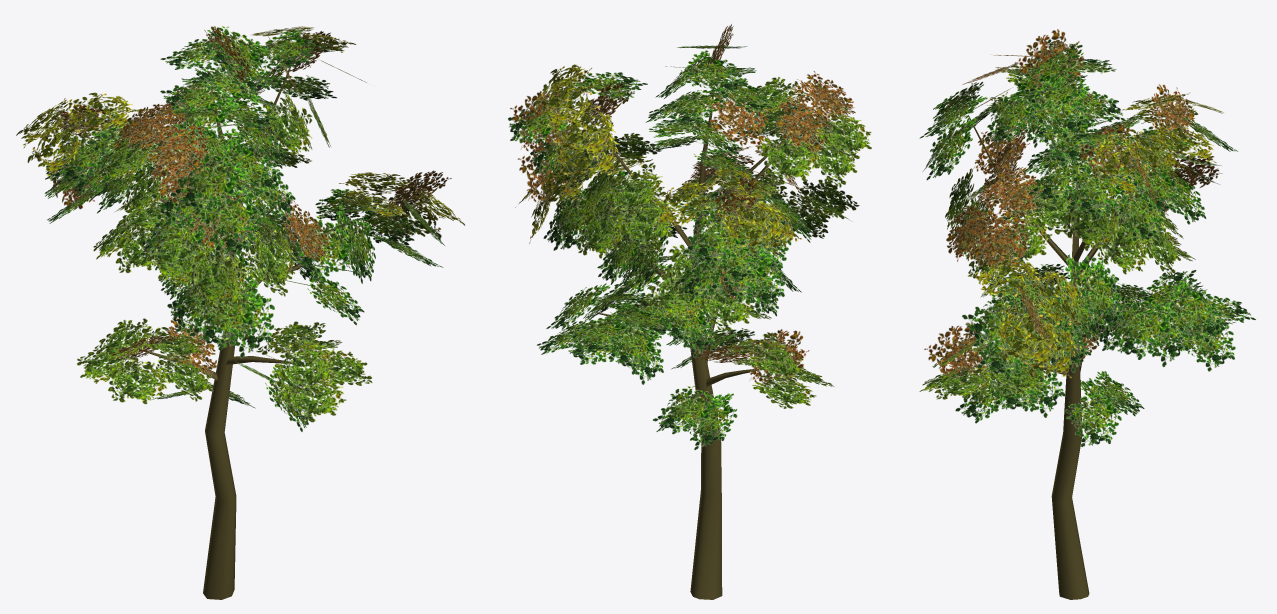
Rendered from tree1b.gltf.
The picture shows the model from 3 angles, left to right: view 1: azimuth 30°, elevation 25°; view 2: azimuth 150°, elevation 25°; view 3: azimuth 270°, elevation 25°; orthographic projection. The views are drawn at different scales.
Parts seen in each view (by area): view 1: tree1b_new.osg__Geometry_0, tree1b_new.osg__Geometry_1; view 2: tree1b_new.osg__Geometry_0, tree1b_new.osg__Geometry_1; view 3: tree1b_new.osg__Geometry_0, tree1b_new.osg__Geometry_1.
Part boxes in pixels (left/top/right/bottom): tree1b_new.osg__Geometry_0: left=16, top=25, right=465, bottom=432; tree1b_new.osg__Geometry_1: left=74, top=55, right=377, bottom=599; tree1b_new.osg__Geometry_0: left=508, top=24, right=871, bottom=450; tree1b_new.osg__Geometry_1: left=584, top=86, right=805, bottom=599; tree1b_new.osg__Geometry_0: left=919, top=29, right=1256, bottom=447; tree1b_new.osg__Geometry_1: left=968, top=116, right=1193, bottom=599.
Bounding box in the file's own units: 11.27 × 17.33 × 9.55.
Materials: 2 (1 with a texture image).
